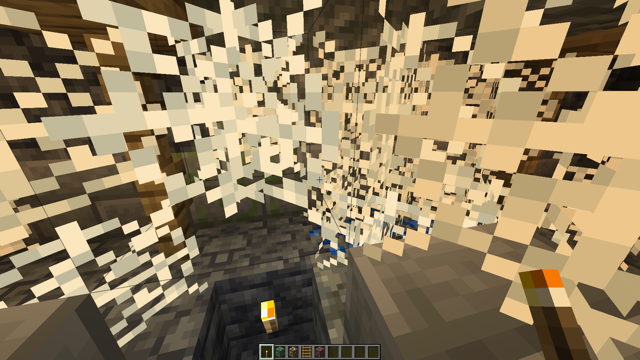lapis: (303, 207, 450, 253)
